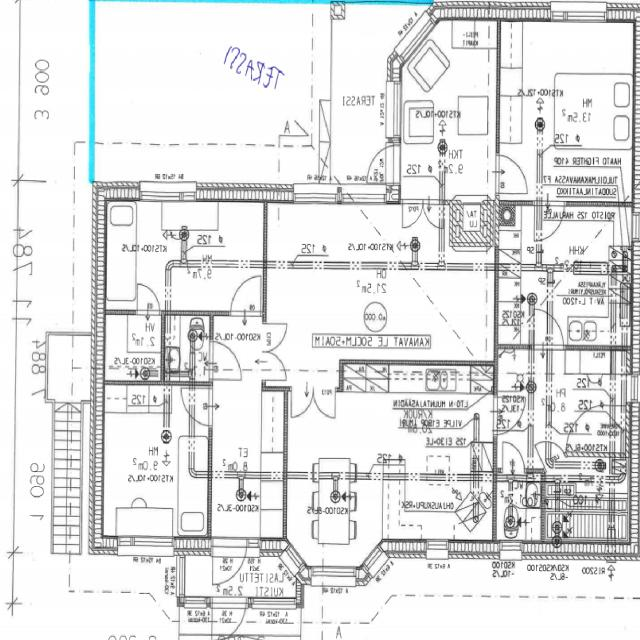door: (213, 537, 244, 596), (357, 145, 401, 182), (214, 597, 246, 640), (230, 273, 261, 316), (534, 307, 564, 350), (494, 398, 528, 435), (495, 155, 528, 193), (178, 389, 212, 425), (535, 199, 564, 240), (534, 432, 564, 471), (208, 342, 240, 378), (291, 388, 314, 420), (262, 351, 288, 379), (262, 324, 288, 352), (314, 388, 336, 420), (138, 284, 160, 316), (503, 442, 524, 473), (403, 199, 423, 229), (423, 199, 443, 229)
